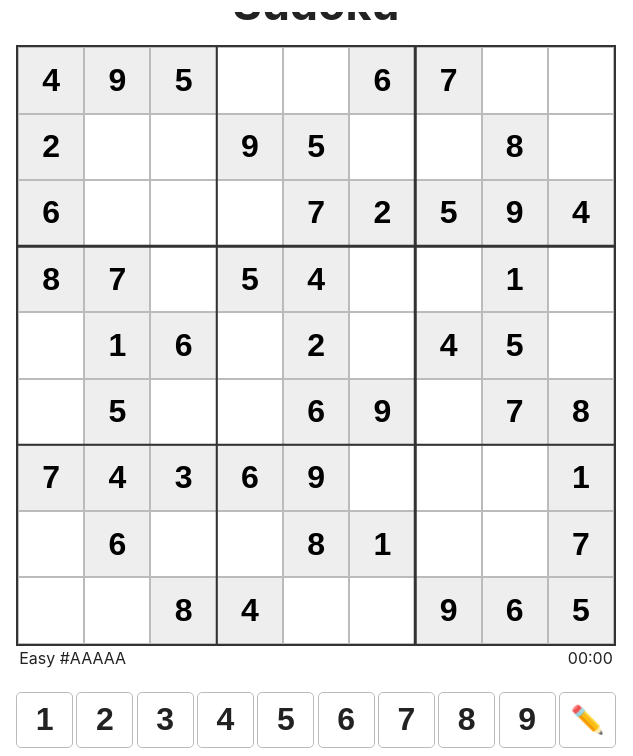
Test: Undo/Redo buttons › renders undo and redo controls and they behave correctly
This screenshot has width=633, height=756.
Expected: the button named "Number 1" is shown, [16, 692, 73, 748]
select and enter a number
Click the 4th field named "Sudoku cell".
click(250, 80)  # box [218, 48, 282, 113]
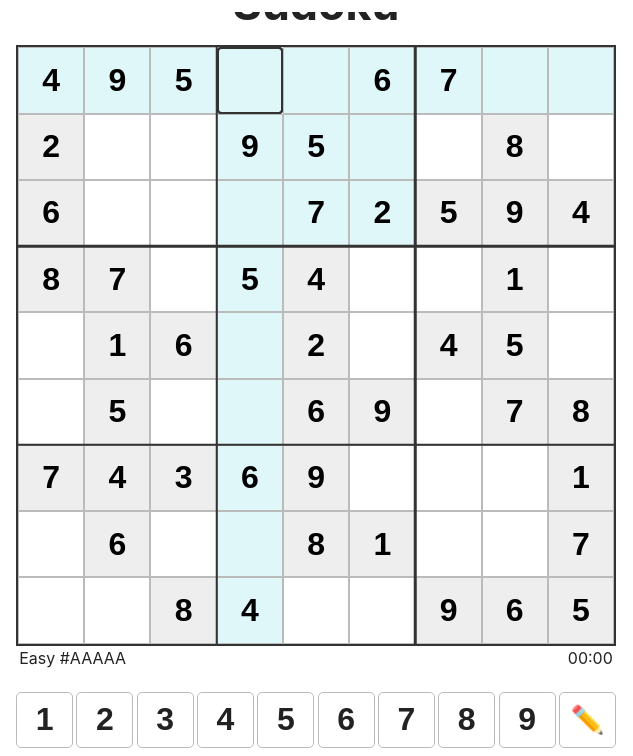
Click the button named "Number 1".
click(45, 720)  # box [16, 692, 73, 748]
(page scrolled)
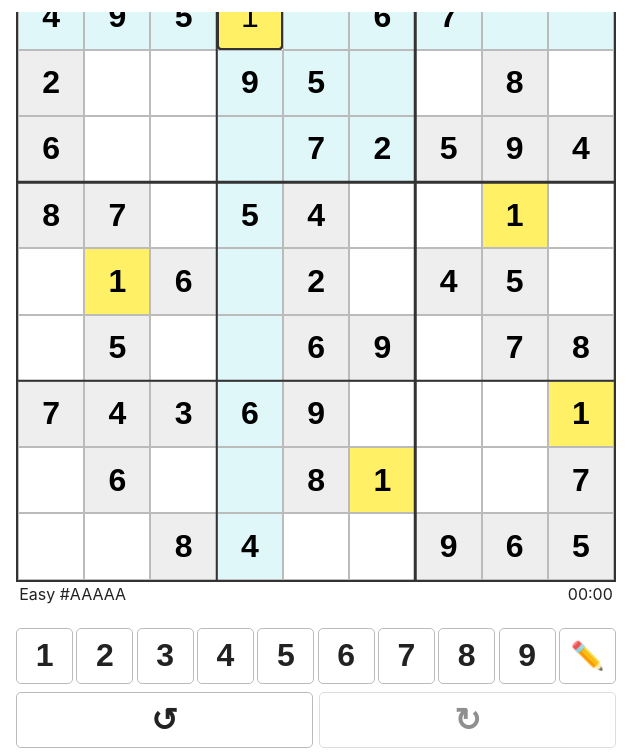
Expected: the button named "Redo" is disabled, [319, 692, 616, 748]
Expected: the button named "Undo" is enabled
Click the button named "Undo".
click(164, 720)  # box [16, 692, 313, 748]
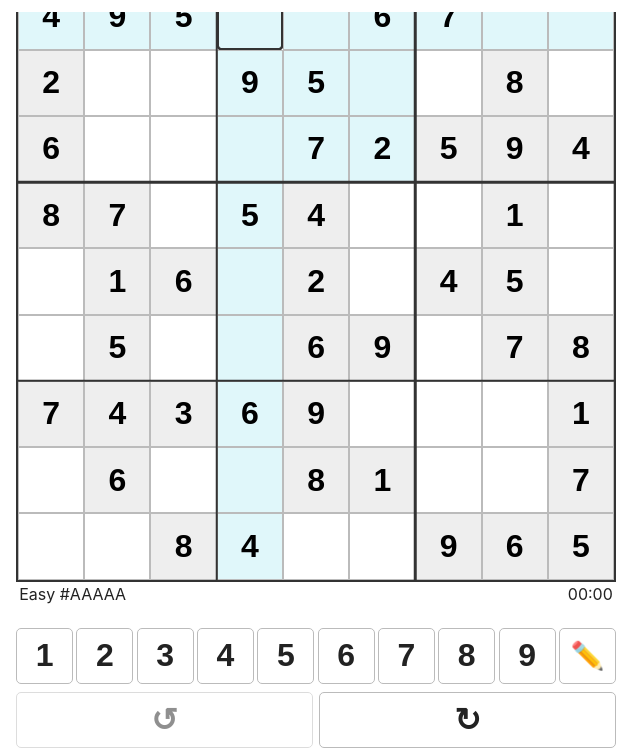
Expected: the button named "Redo" is enabled
Click the button named "Redo".
click(468, 720)  # box [319, 692, 616, 748]
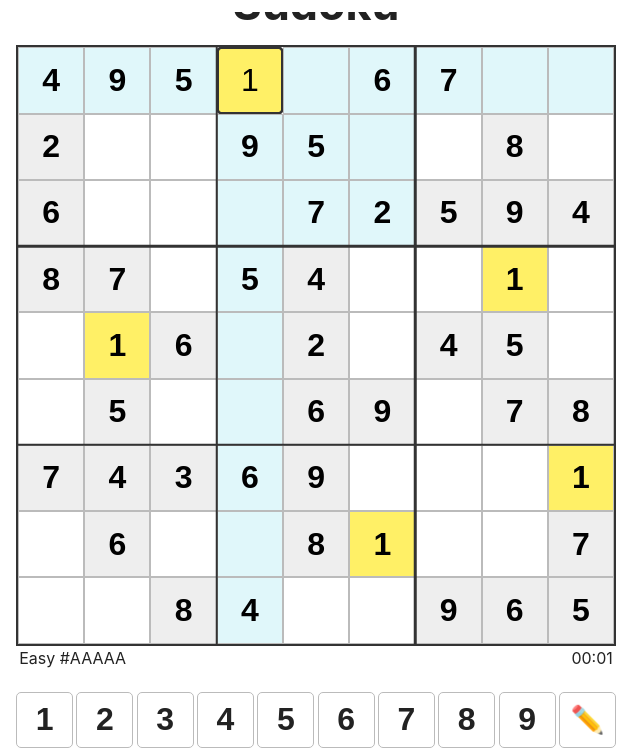
Expected: the 4th field named "Sudoku cell" holds "1", [219, 49, 281, 112]
